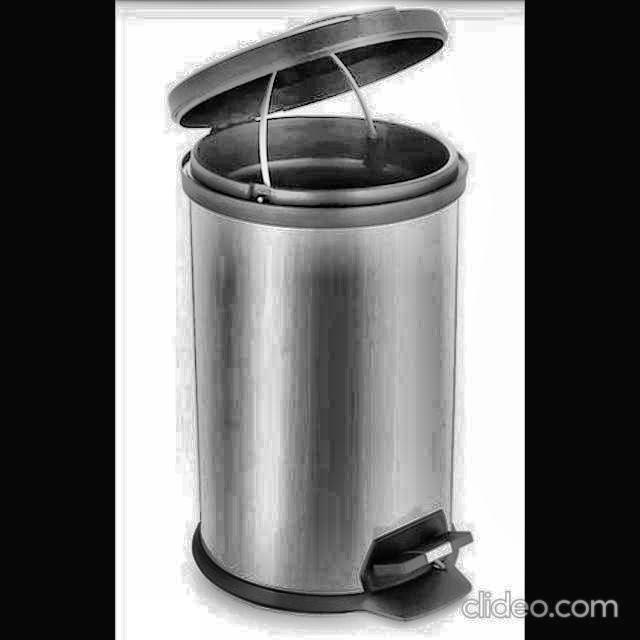Dustbin: (158, 4, 518, 634)
